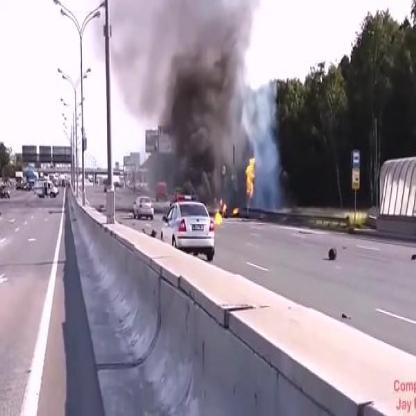fire: (242, 150, 259, 199), (213, 198, 240, 227)
